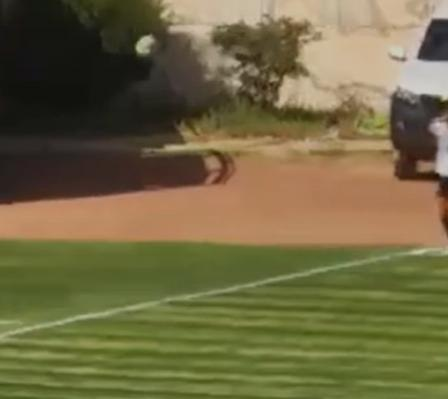ball: (127, 32, 168, 62)
